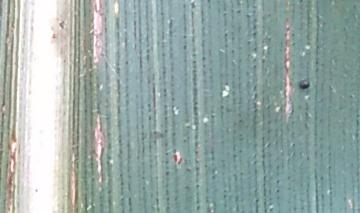tarspot: (294, 72, 315, 95)
